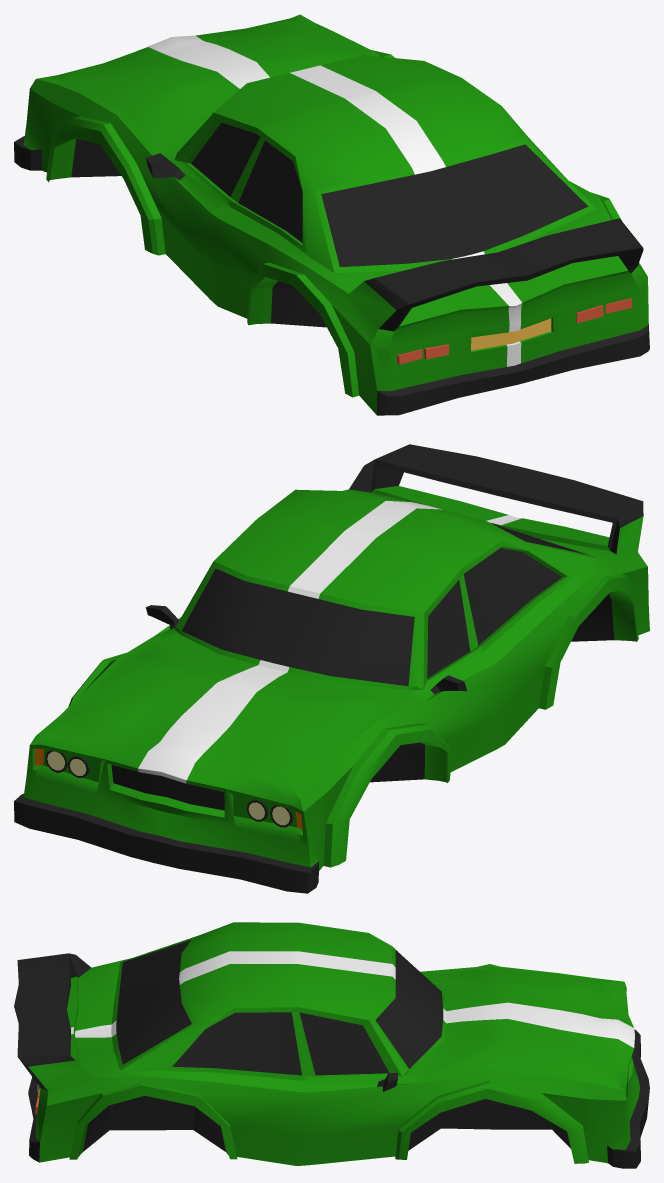
File: sedan_body2.glb
3 views of the same model, one above another, from view 1: azimuth 30°, elevation 25°; view 2: azimuth 150°, elevation 25°; view 3: azimuth 270°, elevation 25° (orthographic). The views are drawn at different scales.
Visible parts, largest first — view 1: sedan_body.001; view 2: sedan_body.001; view 3: sedan_body.001.
Boxes of the visible parts, left/top/right/bottom form: sedan_body.001: left=14, top=14, right=649, bottom=415; sedan_body.001: left=14, top=444, right=649, bottom=893; sedan_body.001: left=14, top=922, right=649, bottom=1168.
Size of the model in its own units: 1.59 by 0.8538 by 3.25.
1 material, 1 textured.
